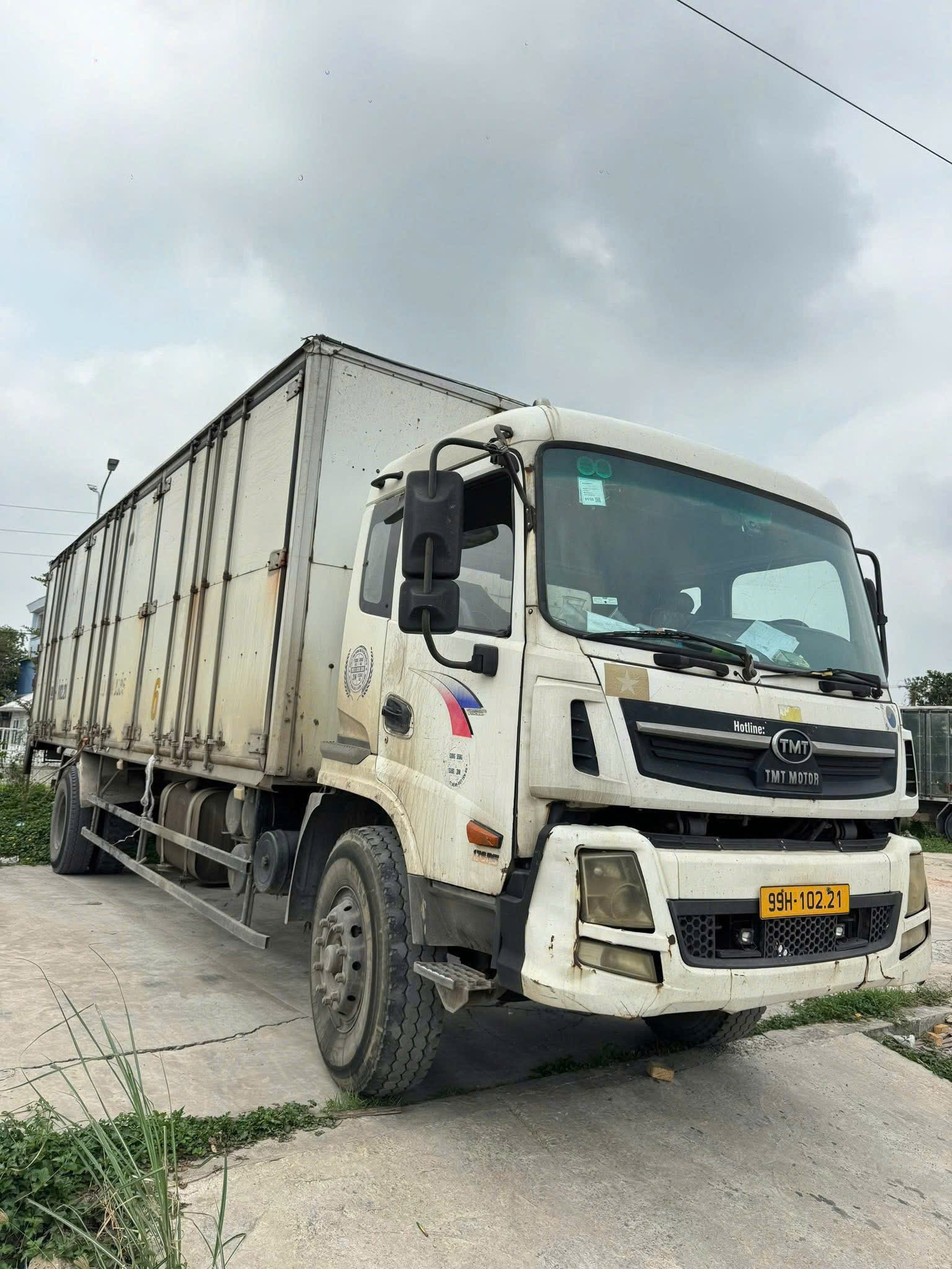Bien-so: (785, 894, 876, 933)
